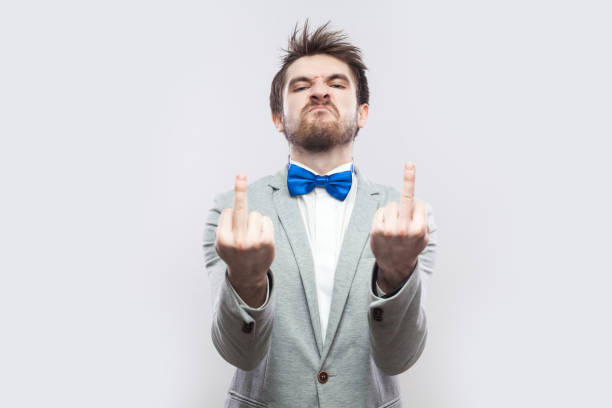insulting_gesture: (372, 167, 431, 275), (216, 173, 275, 274)
